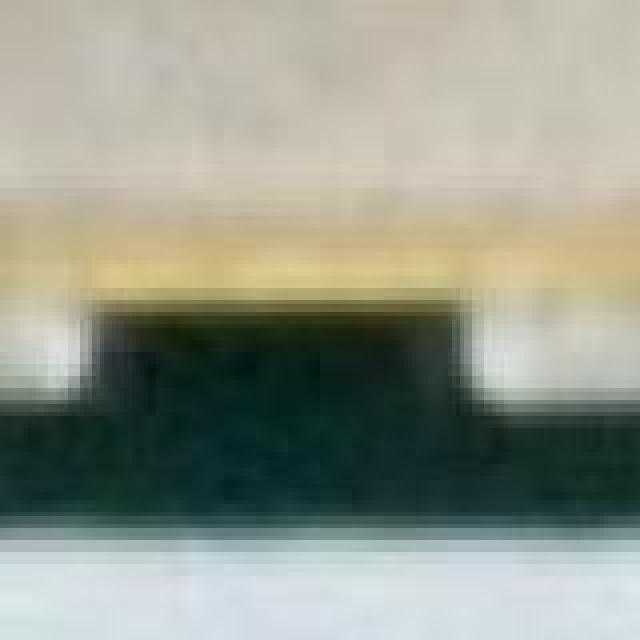clock: (0, 0, 640, 448)
